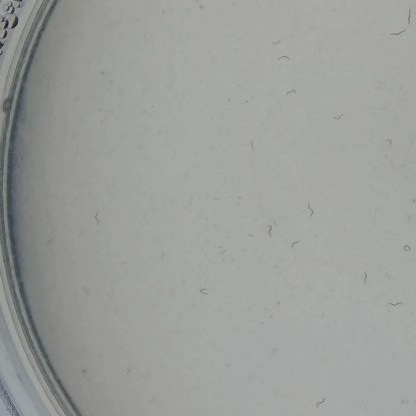worm: (244, 122, 263, 159), (400, 188, 416, 229), (394, 240, 415, 264), (280, 236, 307, 254), (265, 29, 293, 46), (326, 107, 353, 124), (380, 297, 408, 313), (381, 129, 398, 155), (298, 200, 318, 222), (383, 26, 410, 42), (357, 265, 372, 292), (194, 281, 209, 308), (312, 393, 329, 415), (261, 222, 277, 244), (267, 53, 300, 63), (88, 208, 103, 230), (406, 2, 416, 29), (157, 245, 172, 262), (288, 83, 299, 103)
